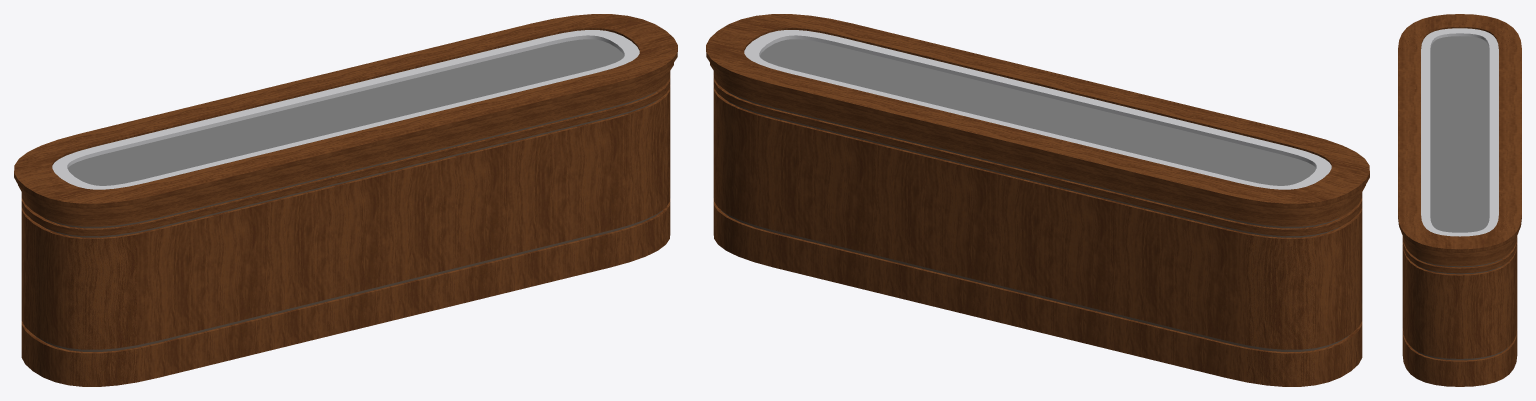
Rendered from D_Plant_201.fbx.
3 renders of one model, left to right at view 1: azimuth 30°, elevation 25°; view 2: azimuth 150°, elevation 25°; view 3: azimuth 270°, elevation 25°, orthographic. The views are drawn at different scales.
Visible parts, largest first — view 1: D_Plant_201; view 2: D_Plant_201; view 3: D_Plant_201.
Part boxes in pixels (x1=…): D_Plant_201: x1=14, y1=14, x2=677, y2=386; D_Plant_201: x1=706, y1=14, x2=1369, y2=386; D_Plant_201: x1=1398, y1=14, x2=1521, y2=386.
Size of the model in its own units: 1.8 by 0.5 by 0.4001.
Materials: 3 (2 with a texture image).
